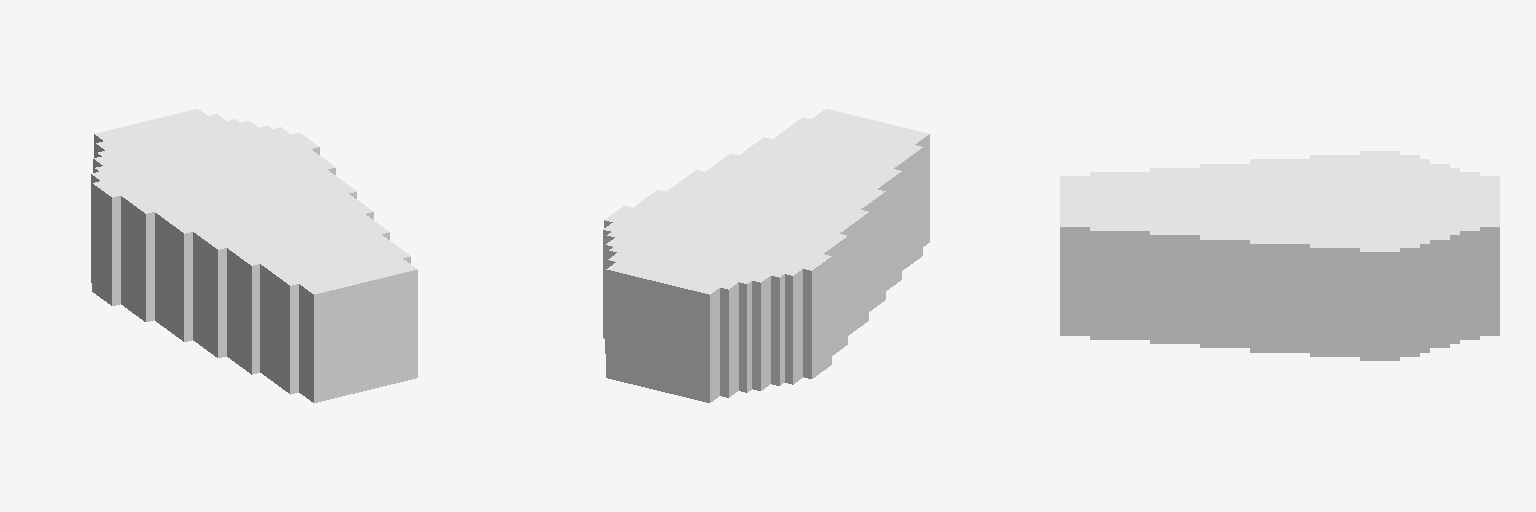
The model's file is casket-closed.obj.
3 views of the same model, side by side, from view 1: azimuth 30°, elevation 25°; view 2: azimuth 150°, elevation 25°; view 3: azimuth 270°, elevation 25° (orthographic).
Visible parts, largest first — view 1: object 1; view 2: object 1; view 3: object 1.
Boxes of the visible parts, x1=… form: object 1: x1=91, y1=109, x2=417, y2=402; object 1: x1=603, y1=109, x2=929, y2=402; object 1: x1=1060, y1=151, x2=1499, y2=360.
Bounding box in the file's own units: 2.4 × 1.2 × 4.4.